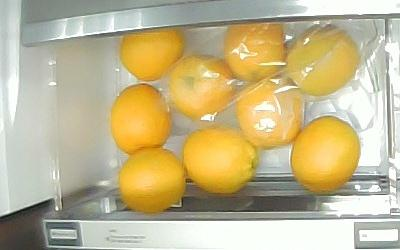orange: (290, 116, 361, 192), (182, 125, 259, 193), (119, 147, 186, 214), (110, 83, 172, 155), (119, 27, 185, 82)
orange_vinyl: (284, 24, 359, 96), (236, 76, 303, 149), (168, 52, 232, 119), (224, 21, 287, 80)
